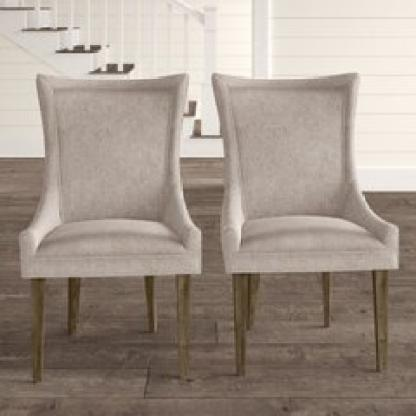chair: (207, 67, 402, 387), (27, 68, 206, 397)
